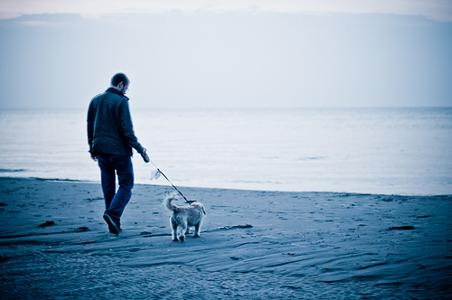person: (87, 72, 149, 235)
